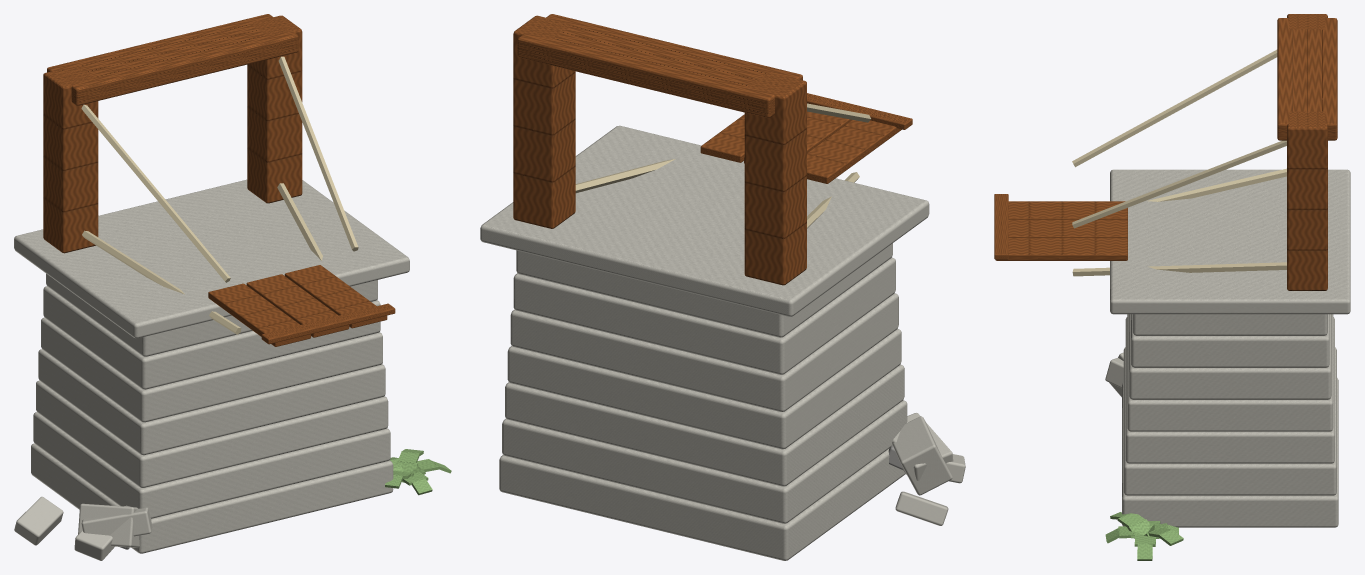
Rendered from jungle-temple-and-stone-city-bridge-anchor-tower-46512d8a__36154.glb.
3 views of the same model, side by side, from view 1: azimuth 30°, elevation 25°; view 2: azimuth 150°, elevation 25°; view 3: azimuth 270°, elevation 25° (orthographic). The views are drawn at different scales.
Parts seen in each view (by area): view 1: bridge-anchor-tower, plank-drawbridge; view 2: bridge-anchor-tower, plank-drawbridge; view 3: bridge-anchor-tower, plank-drawbridge.
Part boxes in pixels (x1,y1,x2,y2): bridge-anchor-tower: (14,14,451,560); plank-drawbridge: (208,265,395,346); bridge-anchor-tower: (480,14,965,560); plank-drawbridge: (700,93,912,183); bridge-anchor-tower: (1072,14,1350,560); plank-drawbridge: (994,194,1127,260).
Size of the model in its own units: 3.74 by 3.66 by 2.96.
Materials: 5 (4 with a texture image).
